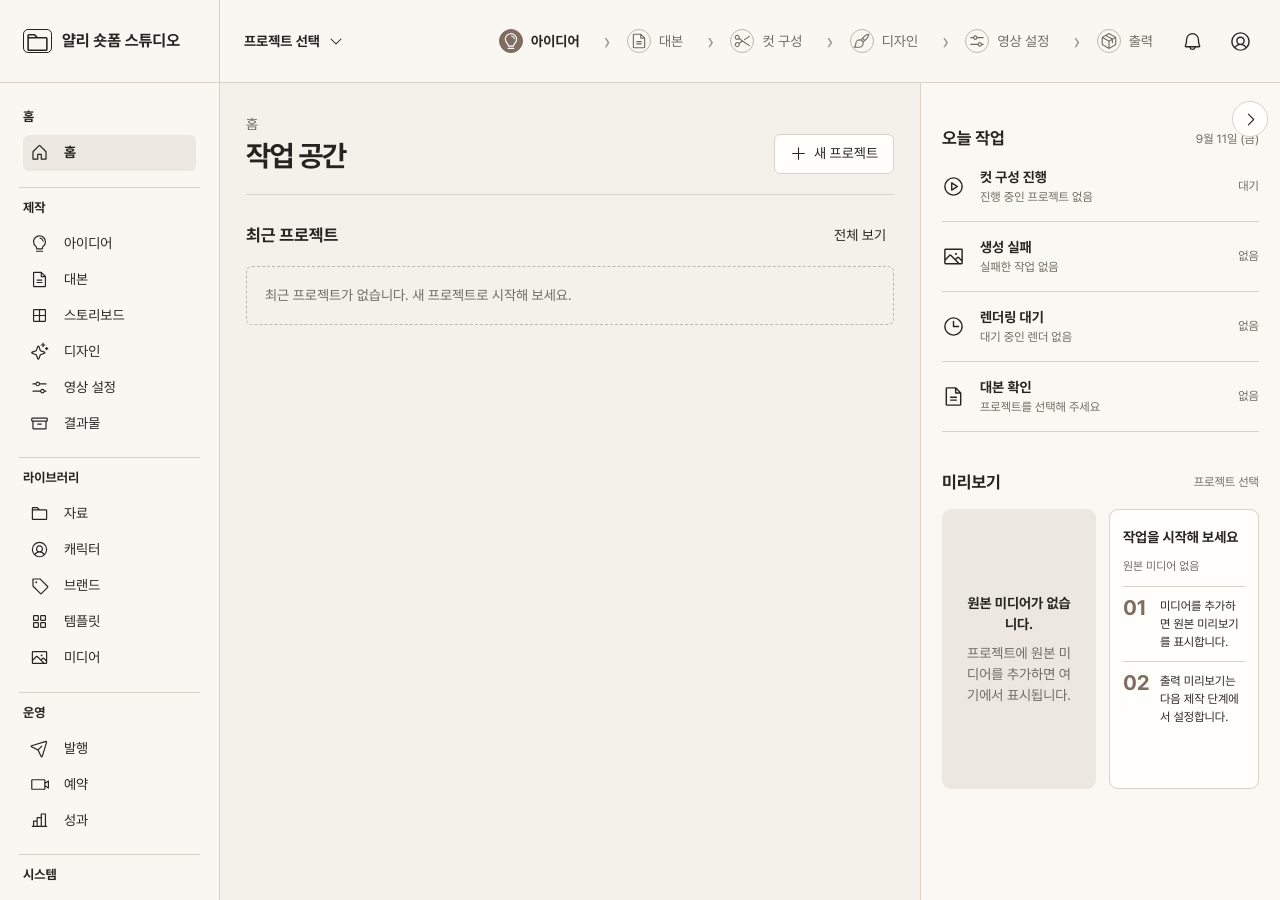
Test case: home new-project action creates a project and opens the real idea route
The width and height of the screenshot is (1280, 900).
Step 1. Click the button "새 프로젝트" → (834, 154), box [774, 134, 894, 174]
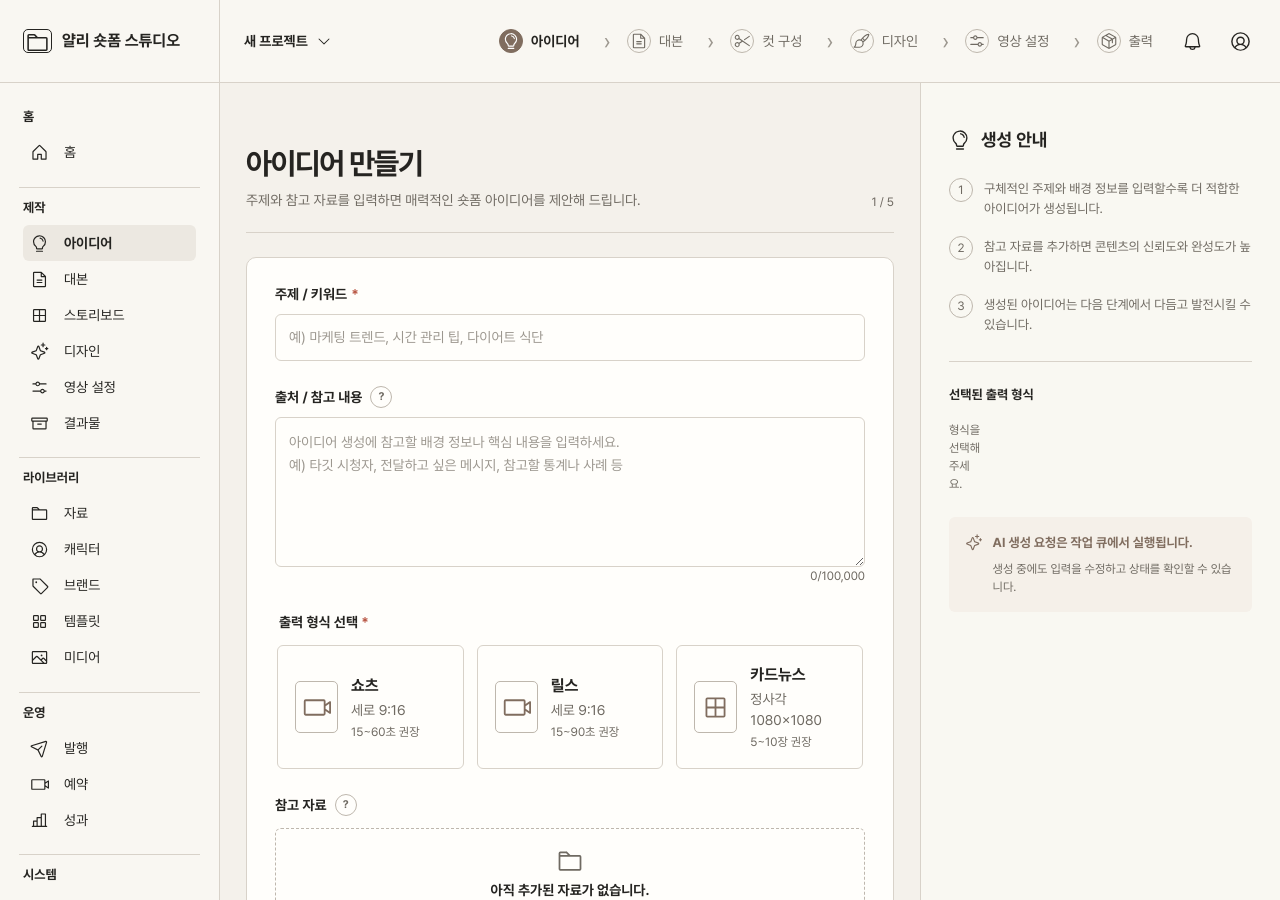
Expected: the heading "아이디어 만들기" is shown, [246, 145, 422, 181]
Expected: the text "아직 추가된 자료가 없습니다." is shown, [491, 880, 649, 899]
